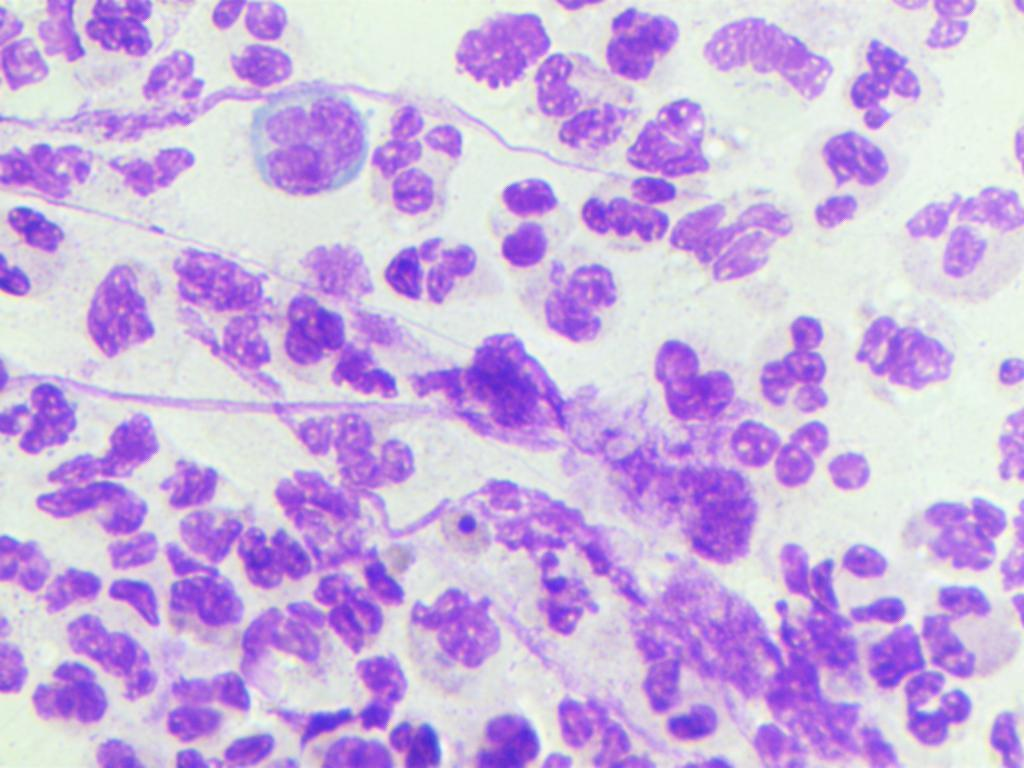lymphocyte: (244, 77, 371, 201)
neutrophil: (19, 470, 163, 584), (711, 408, 888, 500), (881, 194, 1024, 302), (283, 391, 425, 496), (524, 40, 636, 170), (770, 523, 911, 625), (47, 586, 167, 703), (661, 190, 803, 288), (699, 11, 837, 103), (309, 539, 424, 648), (368, 105, 462, 237), (619, 86, 753, 178), (405, 574, 514, 684), (159, 666, 279, 765), (915, 576, 1024, 684), (242, 585, 342, 699), (368, 230, 503, 314), (569, 159, 691, 251), (284, 701, 448, 768), (893, 490, 1018, 574), (168, 224, 274, 323), (642, 324, 740, 429), (154, 450, 247, 559), (448, 5, 556, 96), (845, 313, 963, 394), (803, 123, 895, 226), (513, 543, 613, 635), (536, 689, 652, 768), (77, 254, 160, 364), (846, 33, 940, 130), (837, 605, 936, 694), (531, 255, 629, 344), (162, 549, 250, 648), (208, 0, 302, 90), (755, 303, 828, 417), (23, 646, 125, 726), (488, 176, 578, 265), (87, 136, 205, 198), (890, 655, 963, 753), (133, 38, 217, 121), (658, 694, 751, 768), (414, 476, 503, 553), (233, 511, 318, 590), (598, 1, 683, 78), (274, 283, 343, 373), (0, 383, 80, 459), (453, 699, 540, 768), (983, 343, 1024, 485), (889, 0, 991, 53), (80, 0, 156, 60), (75, 720, 155, 768), (6, 203, 74, 257), (0, 254, 49, 300)
